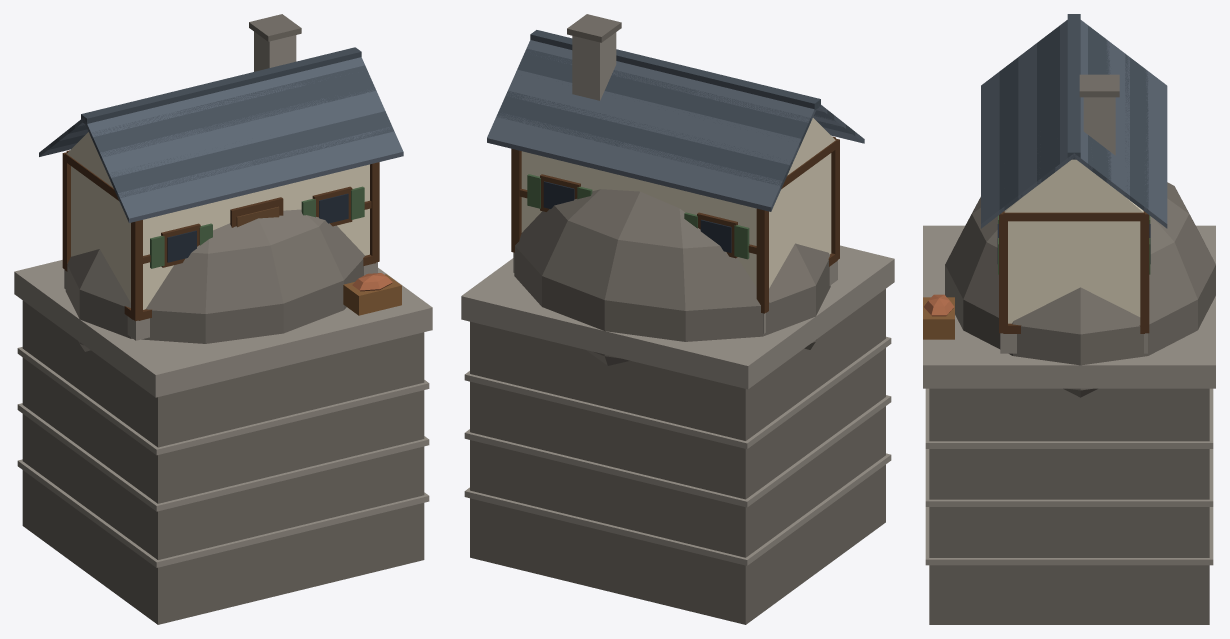
File: iron_mine.glb
The picture shows the model from 3 angles, left to right: view 1: azimuth 30°, elevation 25°; view 2: azimuth 150°, elevation 25°; view 3: azimuth 270°, elevation 25°; orthographic projection. The views are drawn at different scales.
Visible parts, largest first — view 1: iron_mine; view 2: iron_mine; view 3: iron_mine.
Boxes of the visible parts, bbox=[...] form: iron_mine: bbox=[14, 14, 432, 624]; iron_mine: bbox=[461, 14, 894, 624]; iron_mine: bbox=[923, 14, 1215, 624].
Size of the model in its own units: 5.15 by 8.72 by 4.56.
